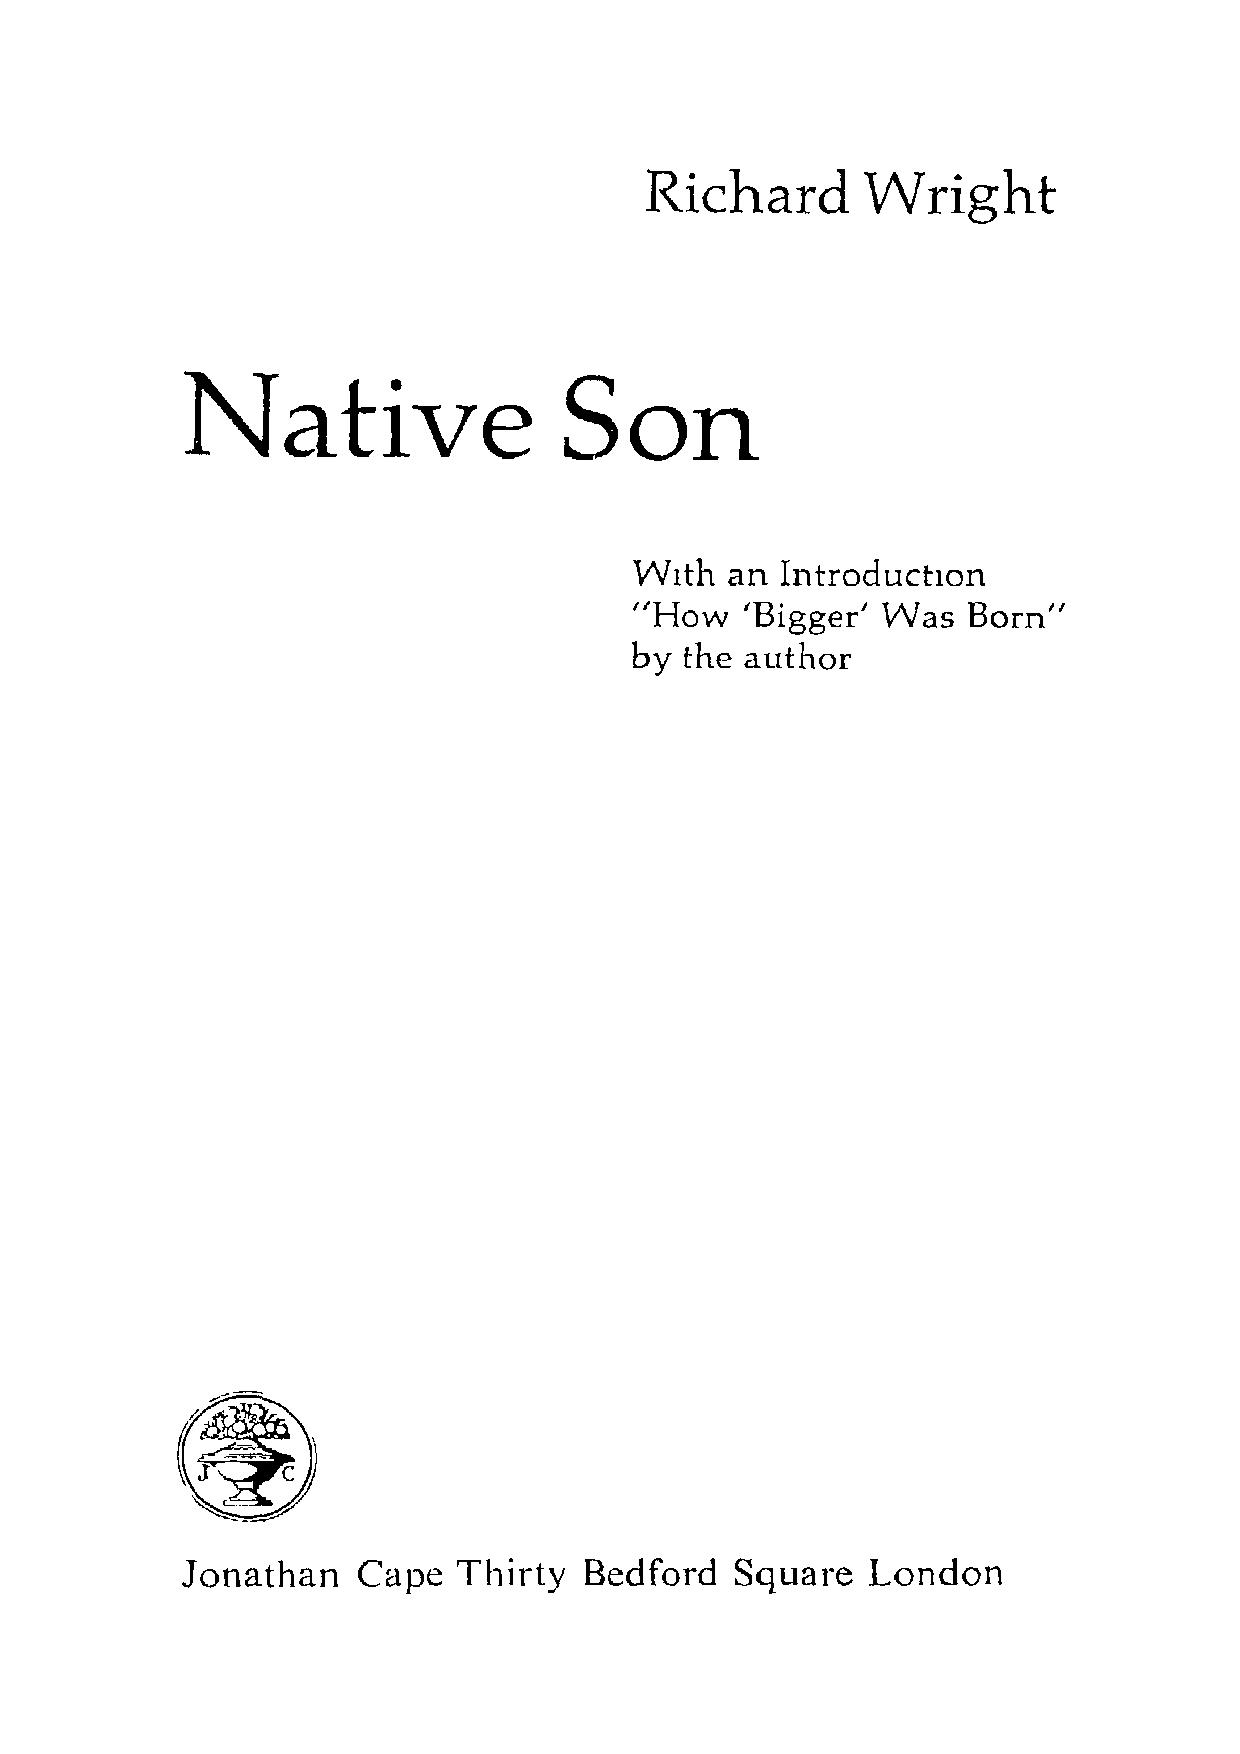author: (644, 165, 1060, 228)
title: (178, 366, 762, 464)
